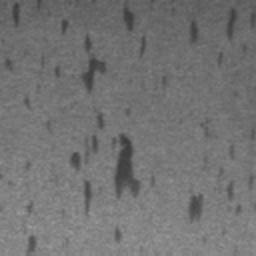Red iron sheet: (5, 0, 156, 243), (188, 145, 242, 220), (189, 6, 238, 45), (26, 234, 37, 256), (26, 201, 33, 215)
